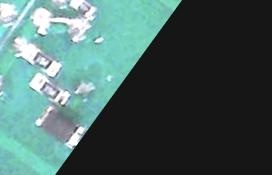chip-resistor: (28, 69, 74, 110), (21, 41, 63, 79), (68, 0, 98, 18)
diode: (33, 102, 87, 150)
